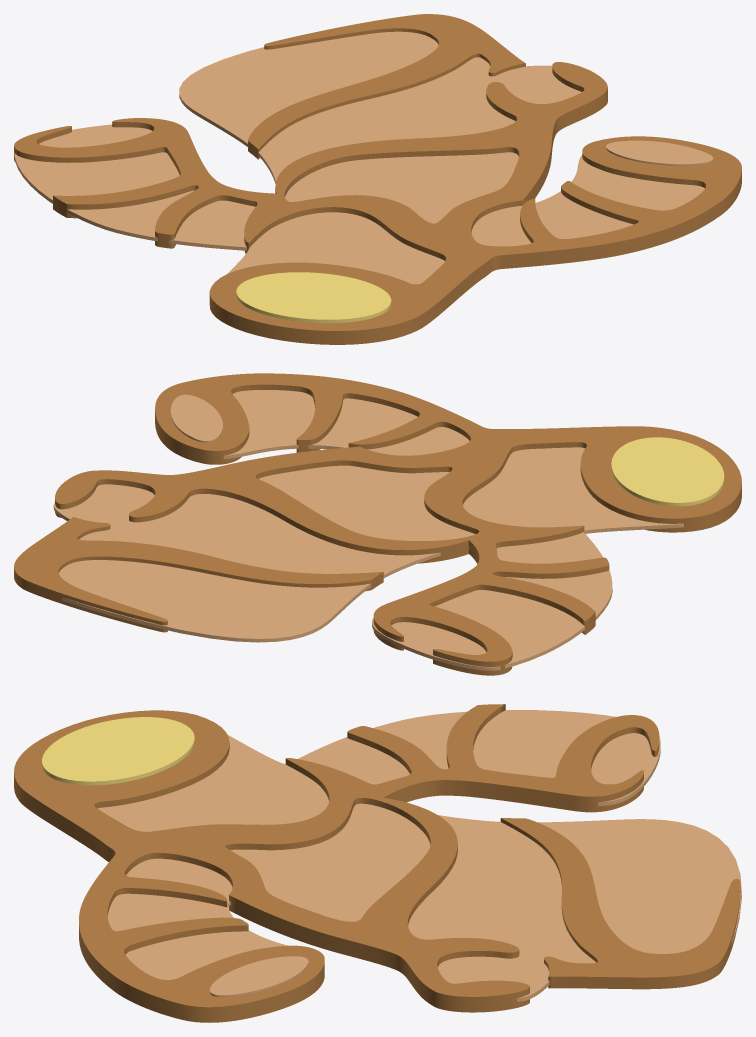
Rendered from emoji_u1fada.glb.
3 views of the same model, one above another, from view 1: azimuth 30°, elevation 25°; view 2: azimuth 150°, elevation 25°; view 3: azimuth 270°, elevation 25° (orthographic). The views are drawn at different scales.
Visible parts, largest first — view 1: emoji_u1fada; view 2: emoji_u1fada; view 3: emoji_u1fada.
Boxes of the visible parts, x1,y1,x2,y2 form: emoji_u1fada: [14, 14, 741, 344]; emoji_u1fada: [14, 373, 741, 675]; emoji_u1fada: [14, 704, 741, 1022].
Size of the model in its own units: 0.0334 by 0.0012 by 0.0339.
